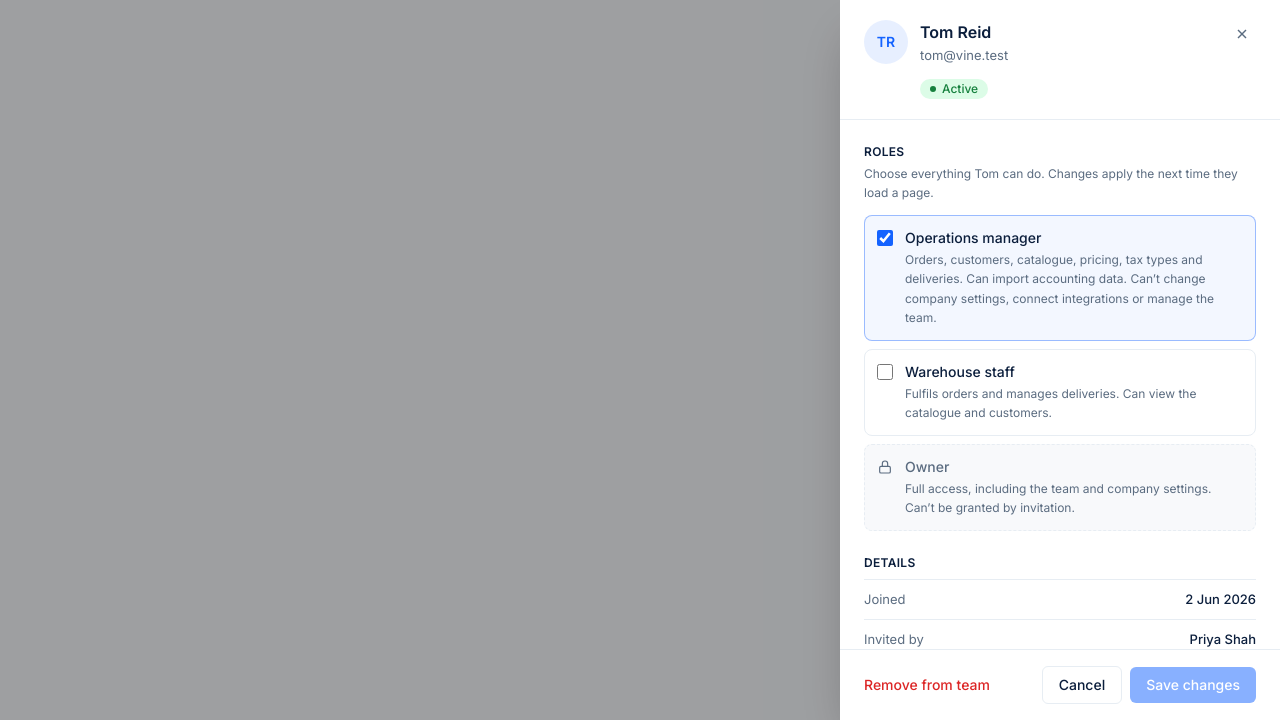
Test: TeamPersonDrawer — a team member › shows the server’s reason when a save is refused
Click the checkbox labelled "Warehouse staff" at (885,372), box [877,364,893,380]
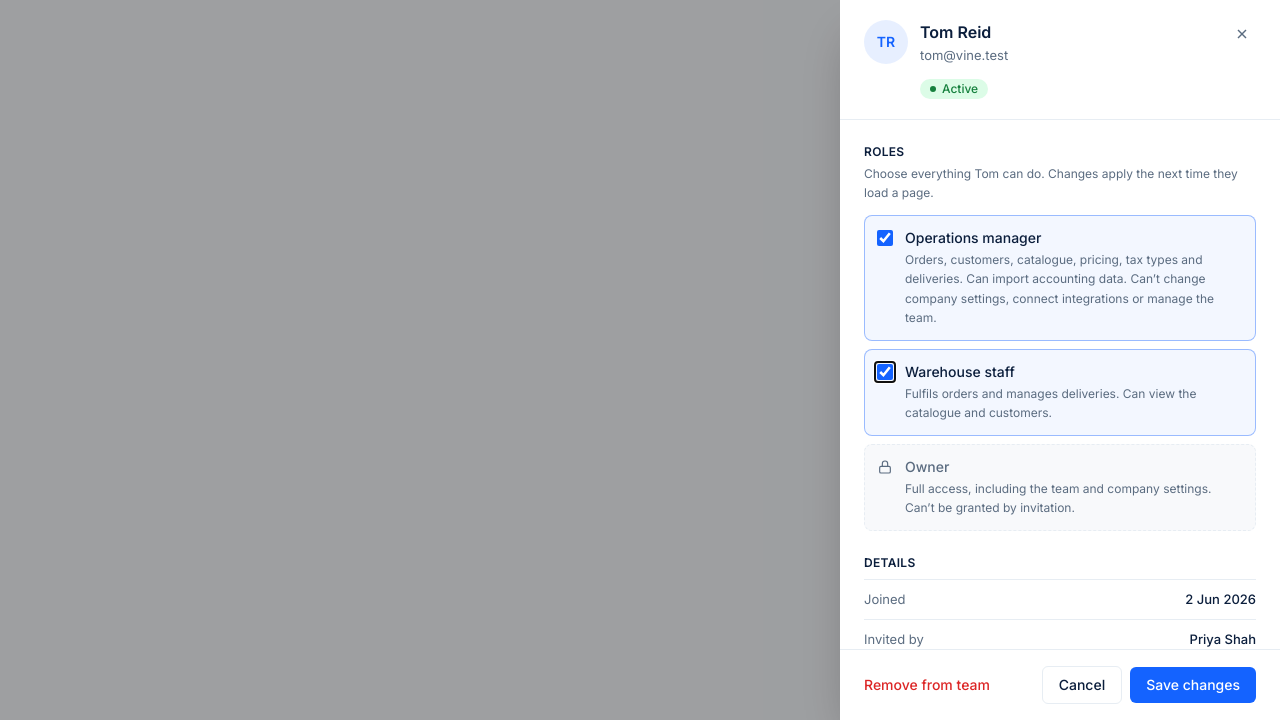
Click the button "Save changes" at (1193,685), box [1130,667,1256,703]
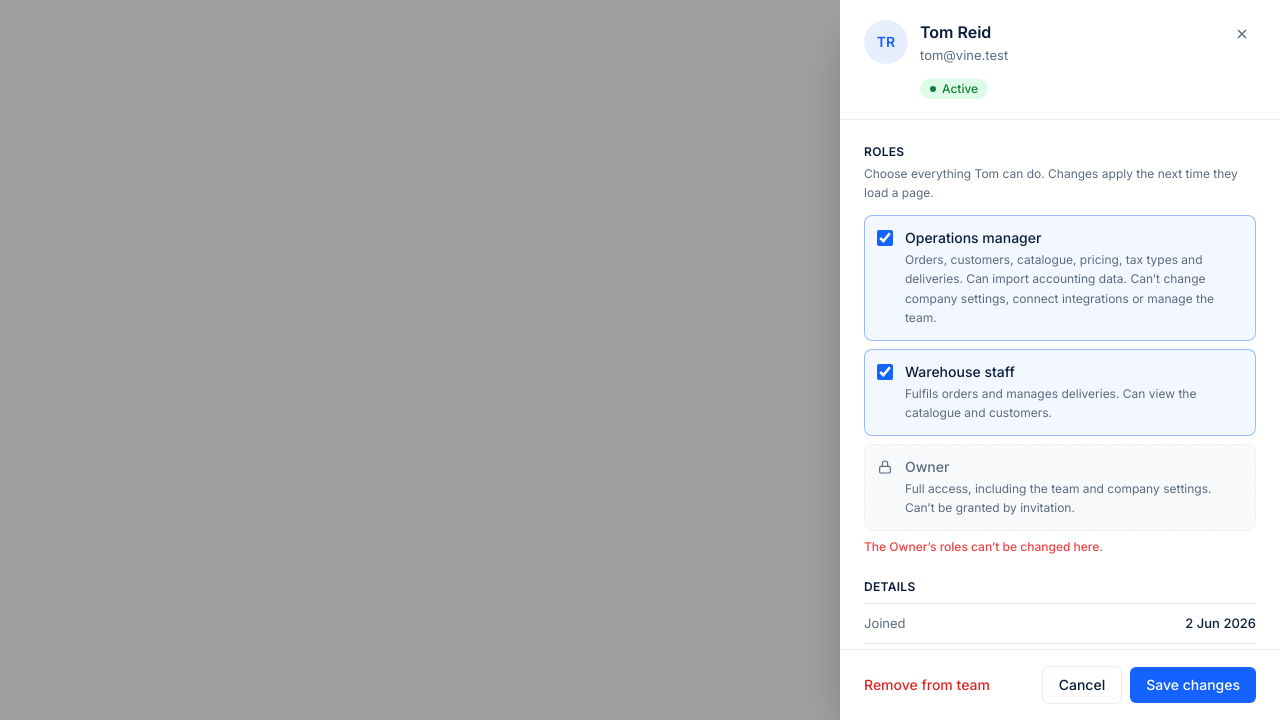
Expected: the text "The Owner’s roles can’t be changed here." is shown, [864,538,1103,554]
